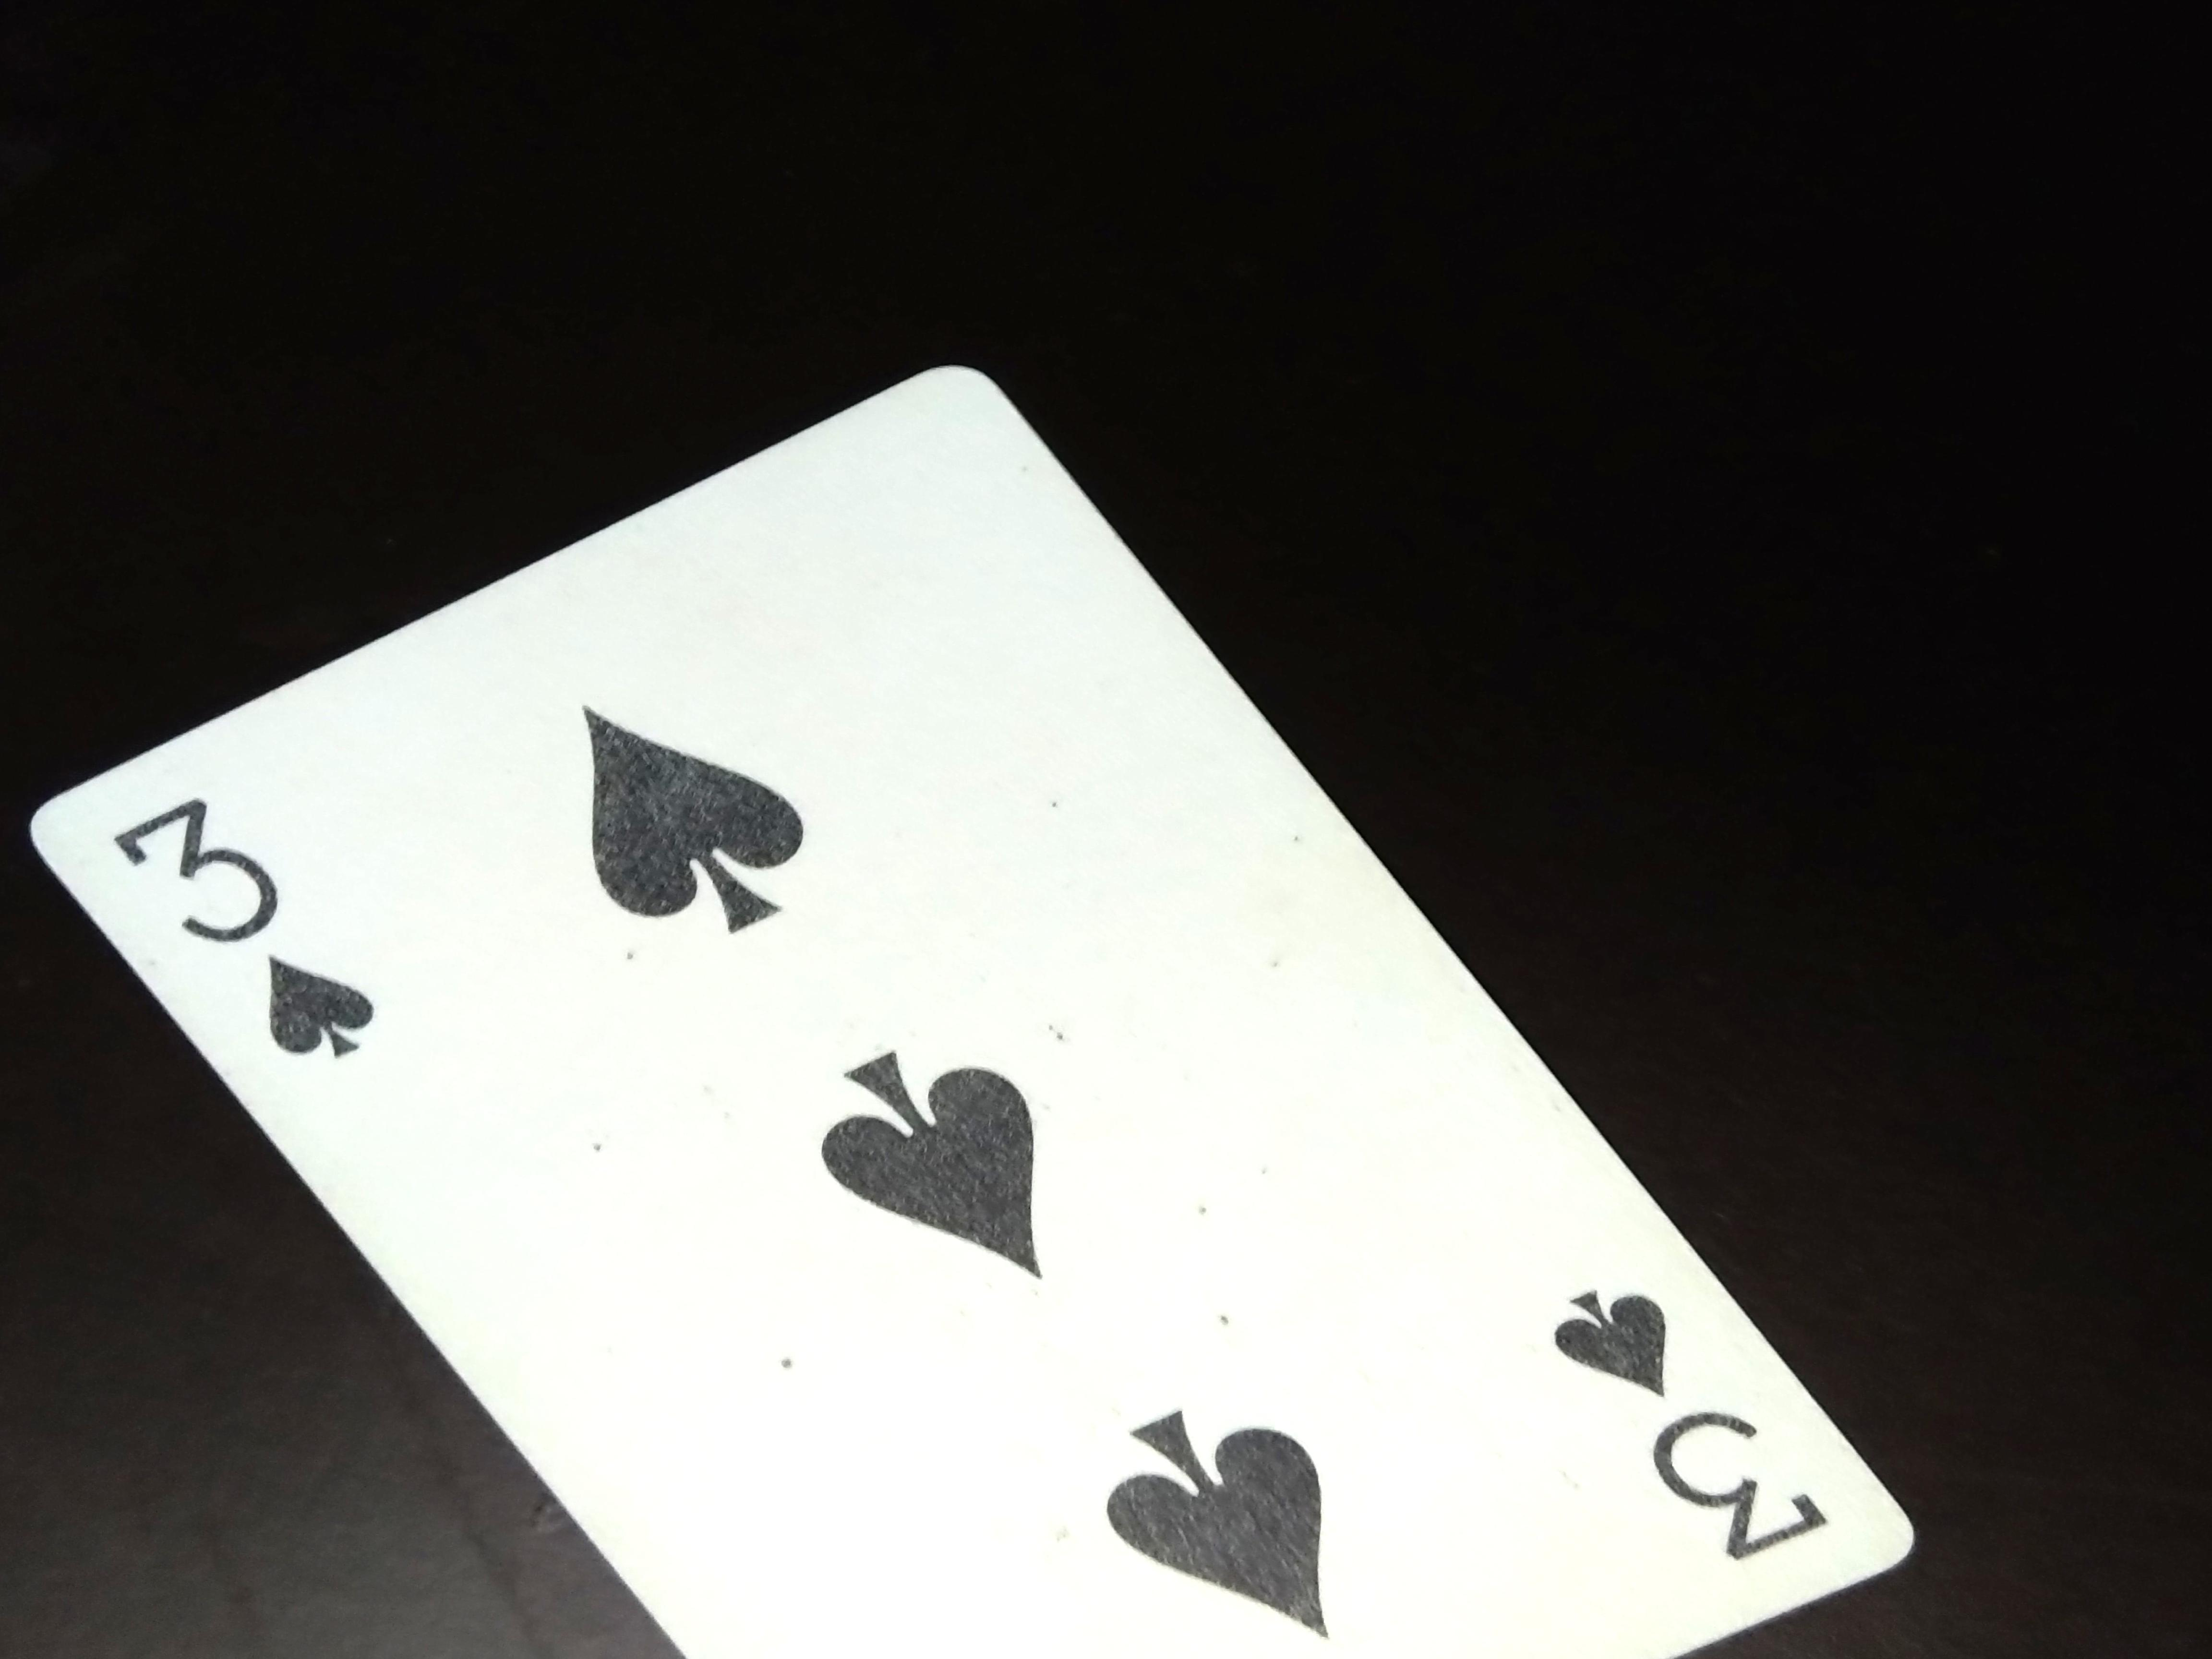3S: (103, 786, 395, 1082)
